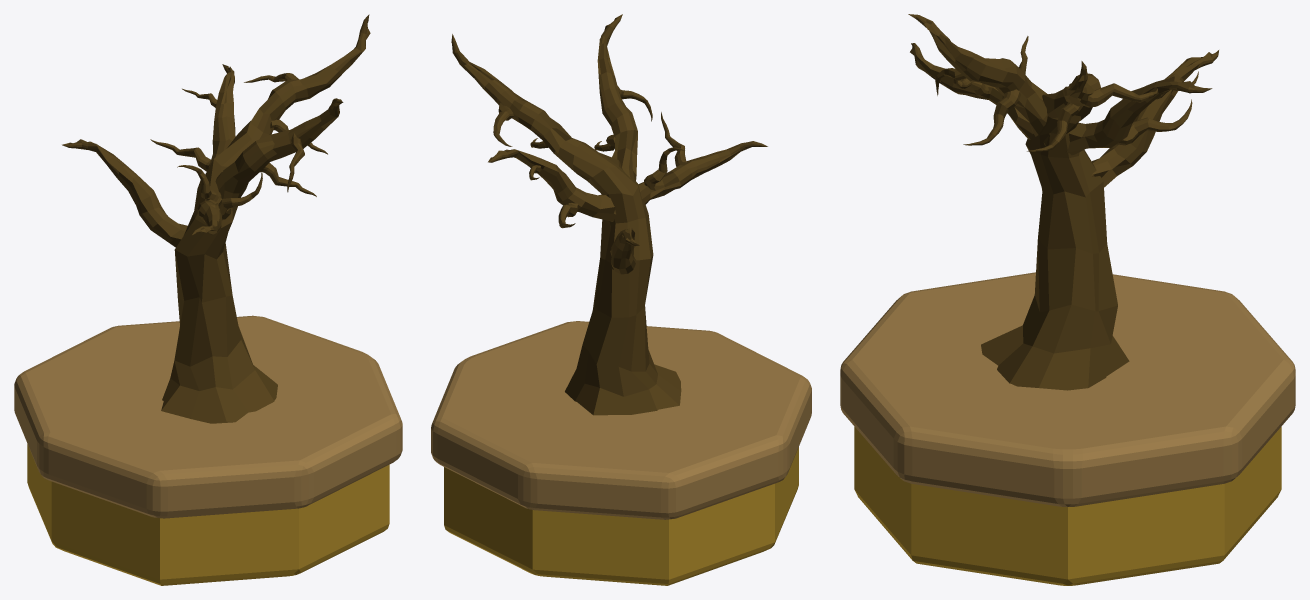
3 views of the same model, side by side, from view 1: azimuth 30°, elevation 25°; view 2: azimuth 150°, elevation 25°; view 3: azimuth 270°, elevation 25° (orthographic). The views are drawn at different scales.
Visible parts, largest first — view 1: Top, Circle.006, Plane; view 2: Top, Circle.006, Plane; view 3: Top, Circle.006, Plane.
Boxes of the visible parts, left/top/right/bottom form: Top: left=14, top=315, right=402, bottom=518; Circle.006: left=62, top=14, right=370, bottom=423; Plane: left=27, top=444, right=389, bottom=585; Top: left=431, top=321, right=811, bottom=519; Circle.006: left=451, top=14, right=767, bottom=415; Plane: left=444, top=447, right=798, bottom=585; Top: left=840, top=272, right=1295, bottom=506; Circle.006: left=908, top=14, right=1218, bottom=390; Plane: left=854, top=426, right=1281, bottom=585.
Bounding box in the file's own units: 1.95 × 2.54 × 1.95.
